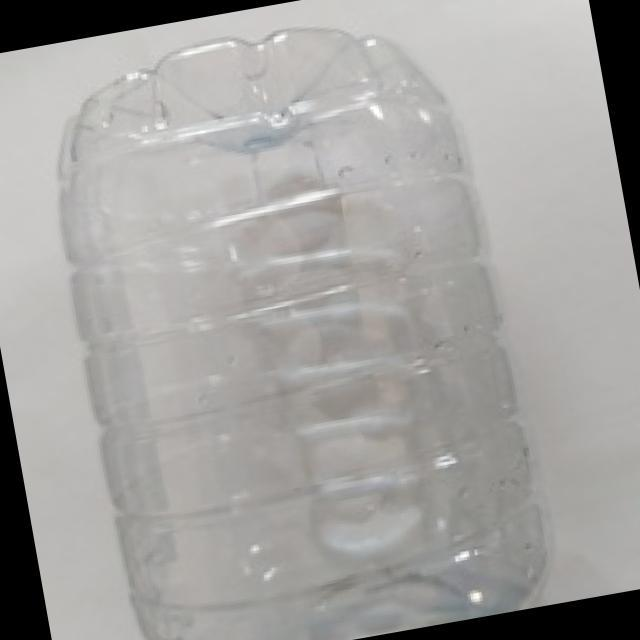good: (32, 0, 557, 640)
